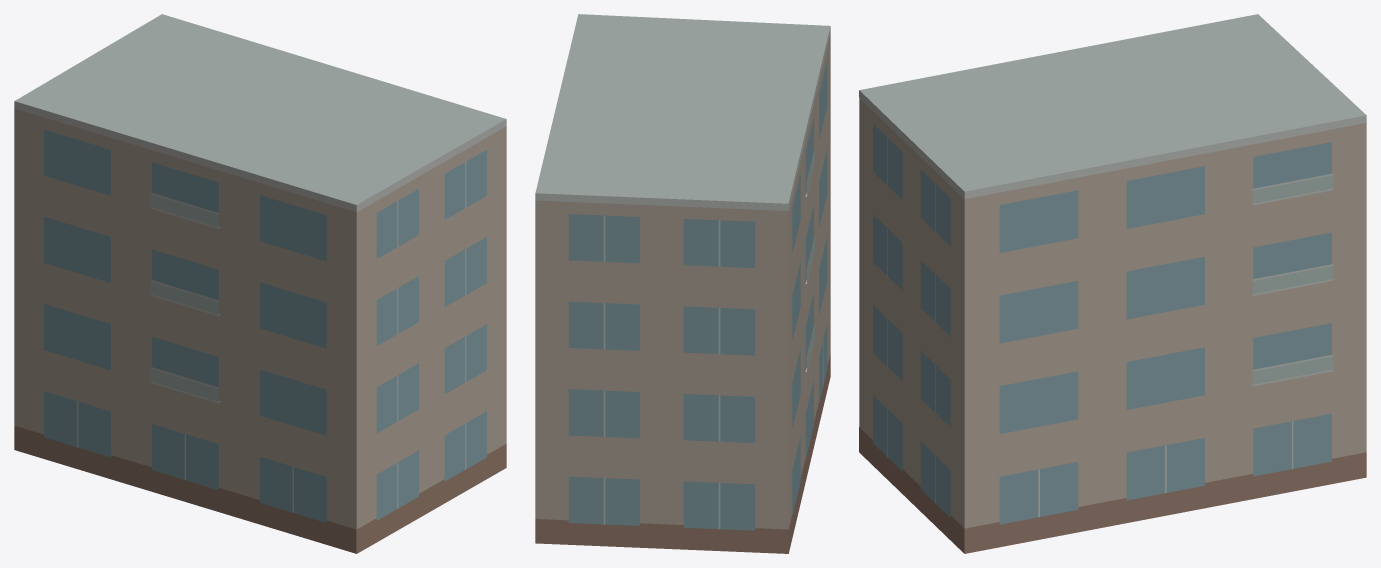
Rendered from survey-upis-32731841.glb.
3 renders of one model, left to right at view 1: azimuth 30°, elevation 25°; view 2: azimuth 150°, elevation 25°; view 3: azimuth 270°, elevation 25°, orthographic. The views are drawn at different scales.
Parts seen in each view (by area): view 1: survey-upis-32731841.tmp; view 2: survey-upis-32731841.tmp; view 3: survey-upis-32731841.tmp.
Part boxes in pixels (<box>): survey-upis-32731841.tmp: <box>14,14,506,553</box>; survey-upis-32731841.tmp: <box>535,14,830,553</box>; survey-upis-32731841.tmp: <box>859,14,1366,553</box>.
Bounding box in the file's own units: 12.38 × 11.75 × 14.93.
